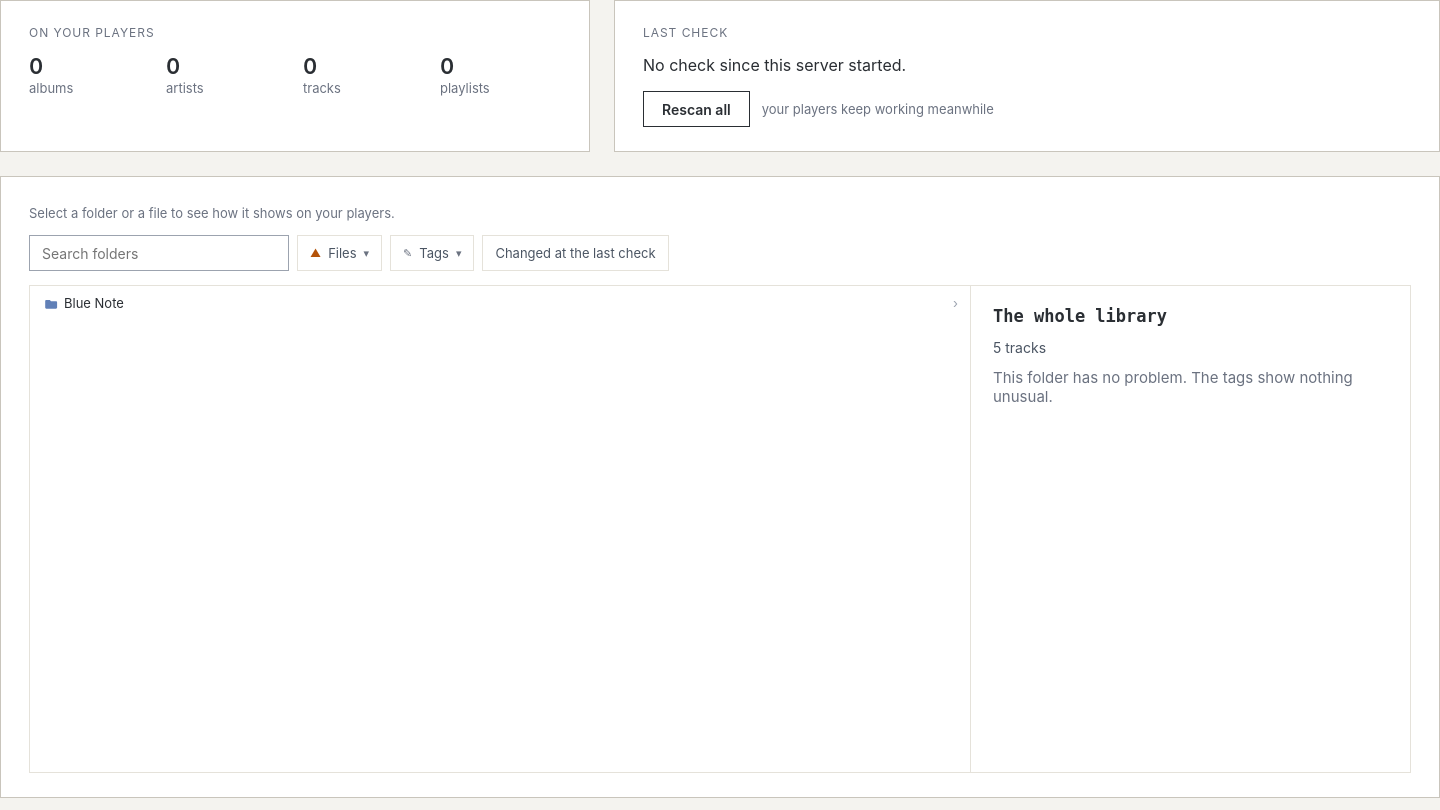
Test: the library page › goes back from a file to the folder it was in rather than to the whole library
Click the text "Blue Note".
click(94, 304)  # box [64, 295, 124, 312]
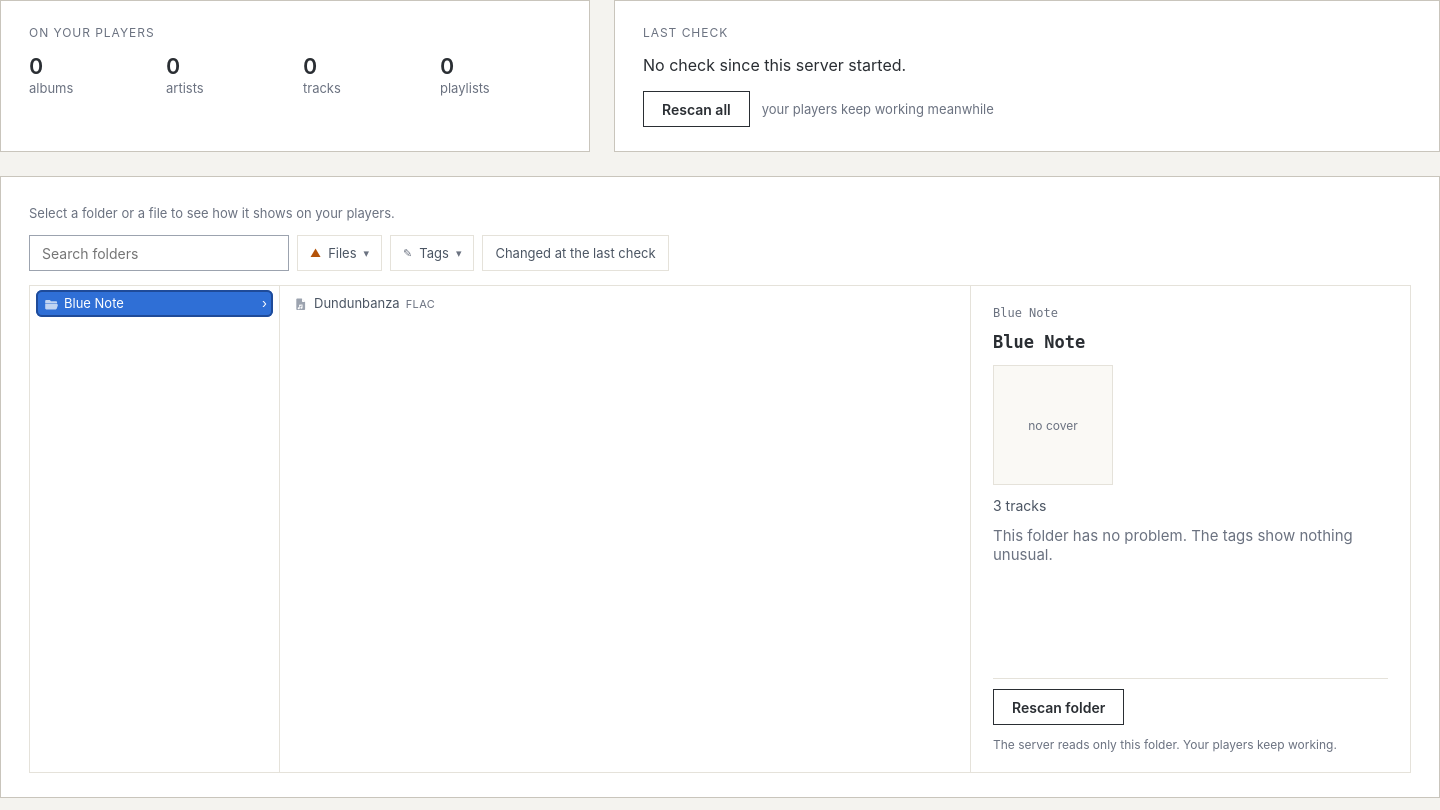
Click the text "Dundunbanza".
click(357, 304)  # box [314, 295, 400, 312]
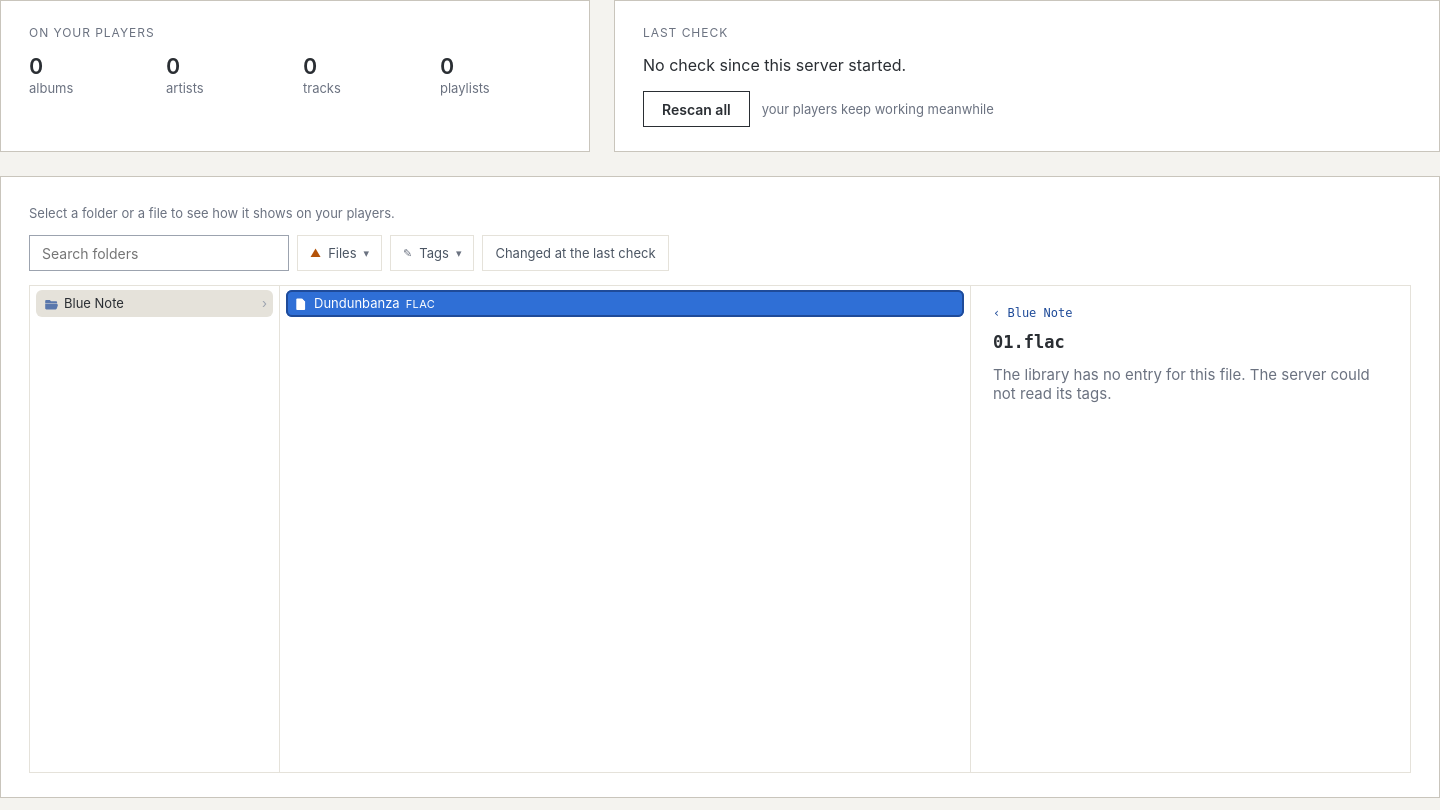
Click the button "‹ Blue Note".
click(1033, 313)  # box [993, 306, 1388, 320]
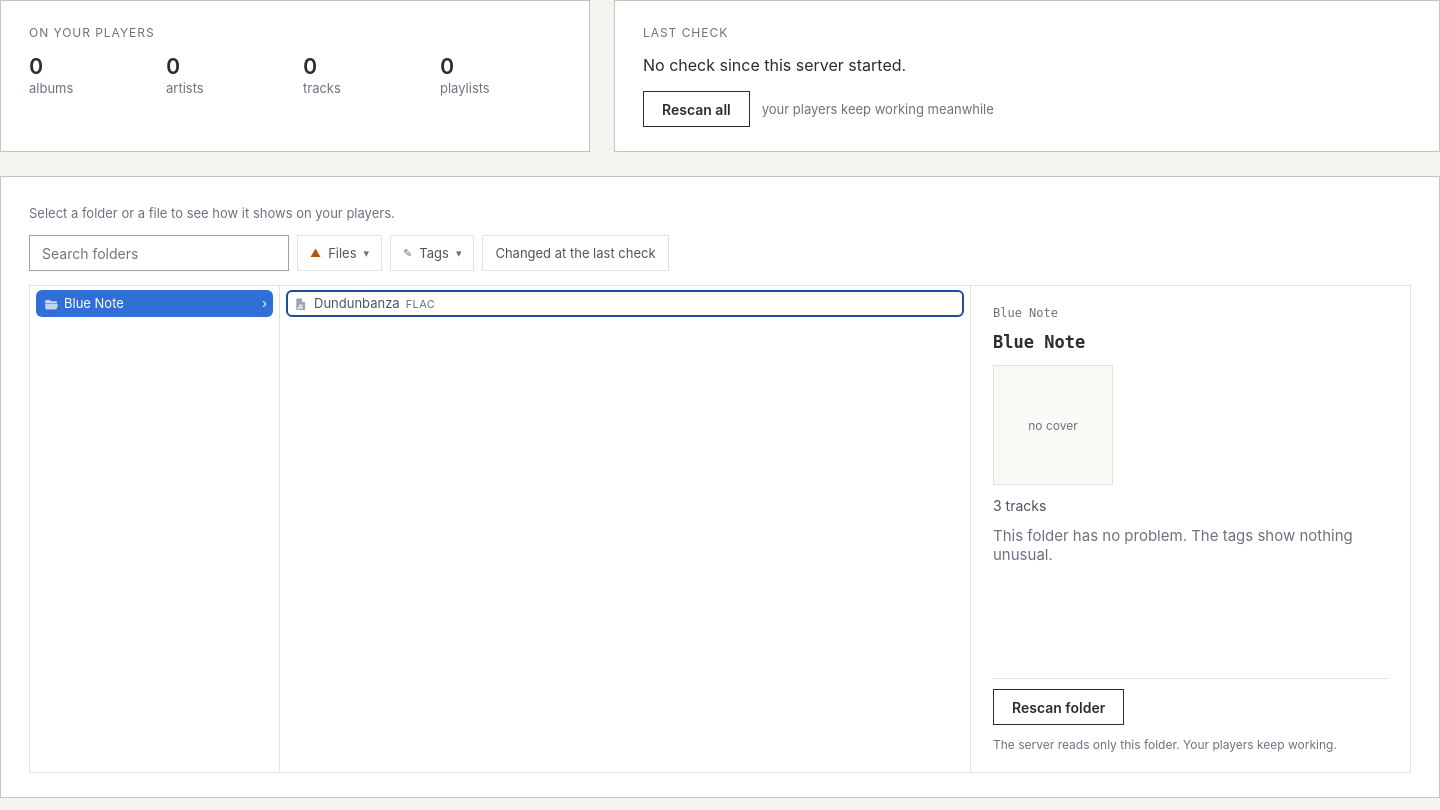
Check: the heading "Blue Note" is shown, box [993, 332, 1085, 352]
